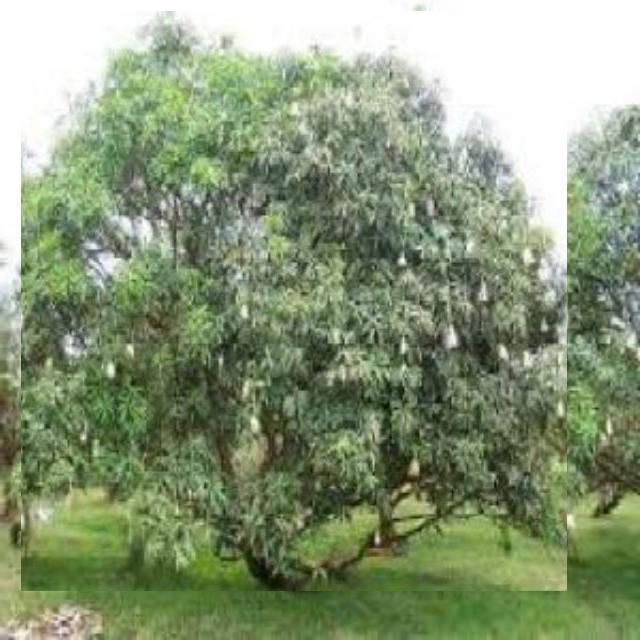tree: (21, 11, 567, 591)
